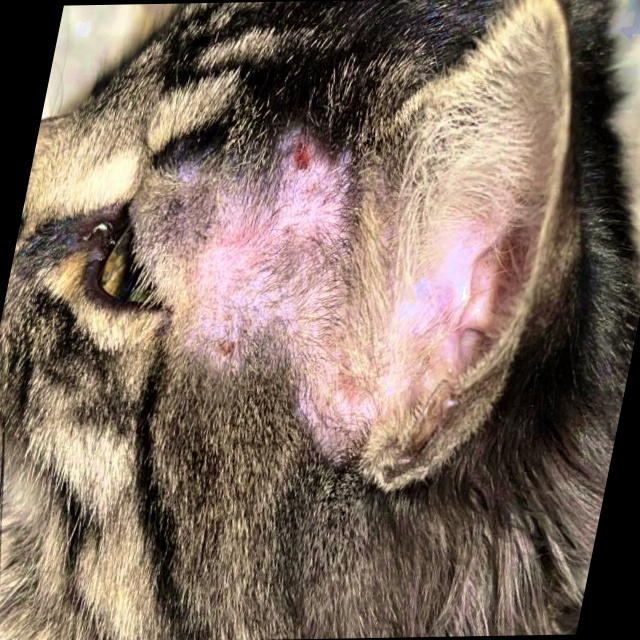ringworm: (182, 140, 369, 357)
